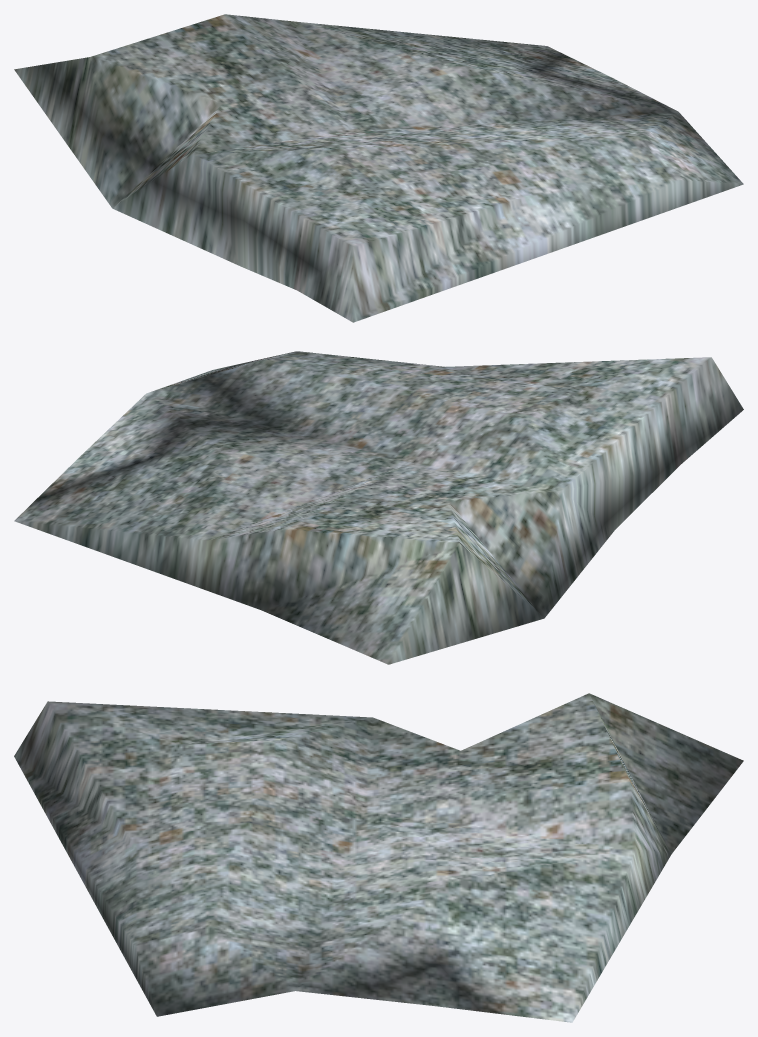
The model's file is rock_graniteslab_small_a1_l1.fbx.
3 renders of one model, top to bottom at view 1: azimuth 30°, elevation 25°; view 2: azimuth 150°, elevation 25°; view 3: azimuth 270°, elevation 25°, orthographic. The views are drawn at different scales.
Visible parts, largest first — view 1: mesh_node; view 2: mesh_node; view 3: mesh_node.
Boxes of the visible parts, x1,y1,x2,y2 form: mesh_node: (14,14,743,322); mesh_node: (14,351,743,664); mesh_node: (14,693,743,1022).
Size of the model in its own units: 0.7932 by 0.1661 by 0.9883.
